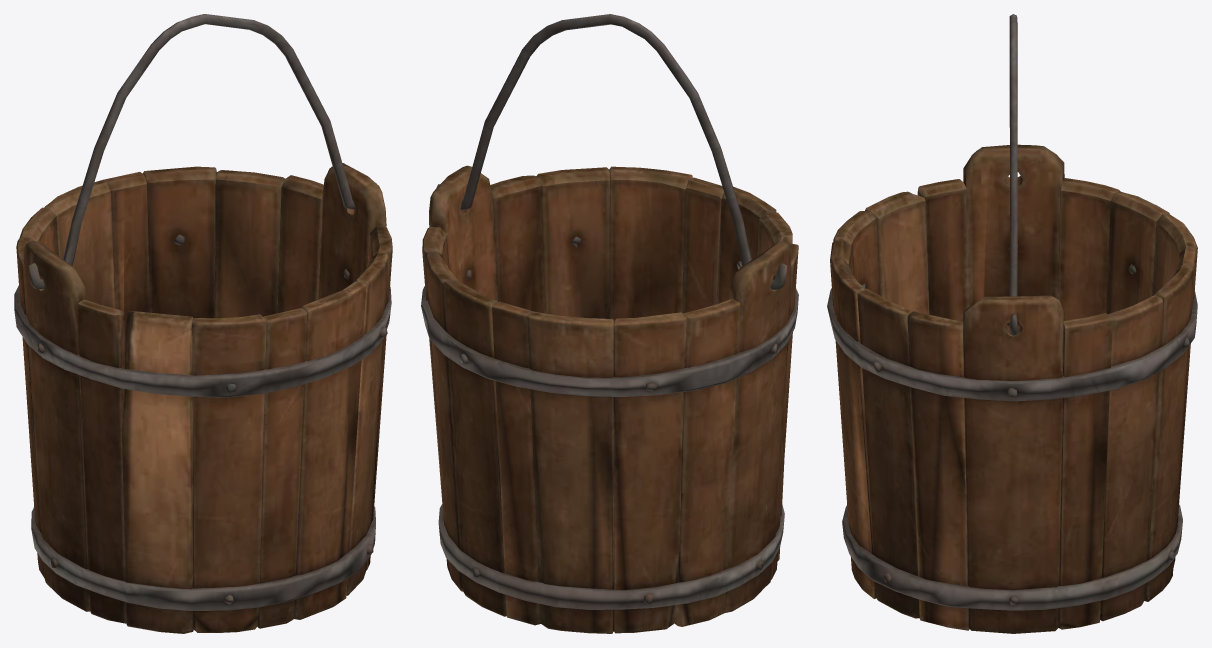
File: wooden_bucket_01.glb
3 renders of one model, left to right at view 1: azimuth 30°, elevation 25°; view 2: azimuth 150°, elevation 25°; view 3: azimuth 270°, elevation 25°, orthographic.
Visible parts, largest first — view 1: wooden_bucket_01; view 2: wooden_bucket_01; view 3: wooden_bucket_01.
Boxes of the visible parts, x1,y1,x2,y2 form: wooden_bucket_01: [14, 14, 392, 633]; wooden_bucket_01: [421, 14, 798, 633]; wooden_bucket_01: [827, 14, 1197, 633].
Bounding box in the file's own units: 0.3664 × 0.5499 × 0.3419.
1 material, 1 textured.
